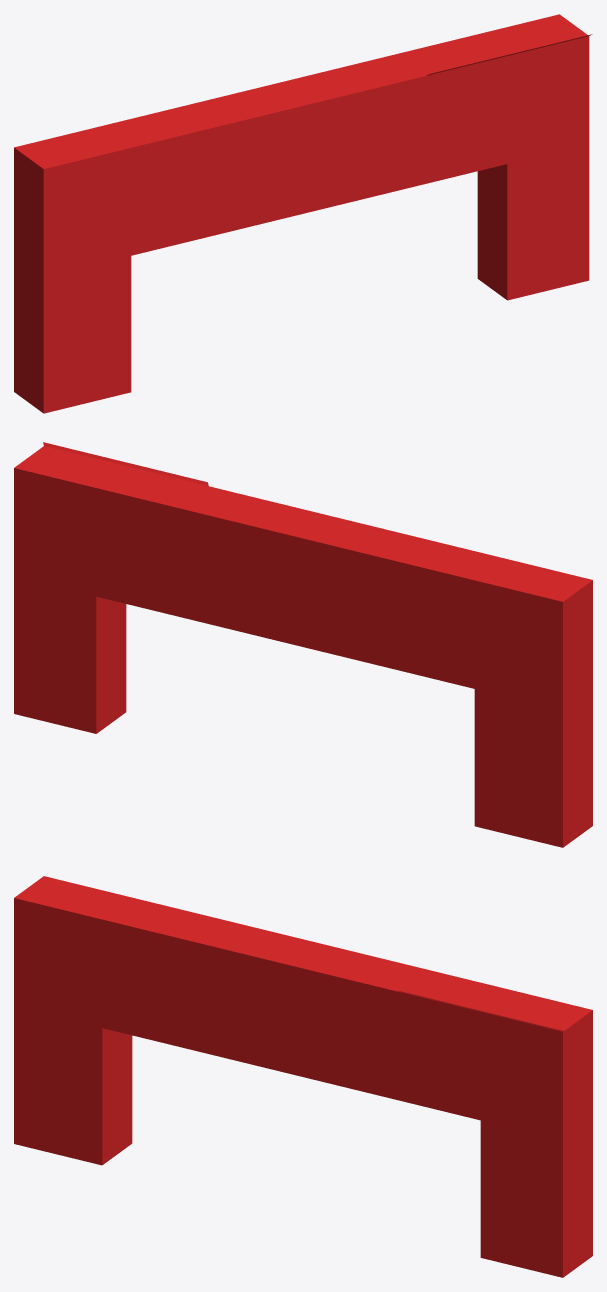
File: vaya.fbx
The picture shows the model from 3 angles, top to bottom: view 1: azimuth 30°, elevation 25°; view 2: azimuth 150°, elevation 25°; view 3: azimuth 330°, elevation 25°; orthographic projection.
Visible parts, largest first — view 1: Cube; view 2: Cube; view 3: Cube.
Boxes of the visible parts, box(x1,y1,x2,y2) form: Cube: box(14, 14, 592, 413); Cube: box(14, 442, 592, 847); Cube: box(14, 876, 592, 1277).
Size of the model in its own units: 531 by 229 by 52.23.
